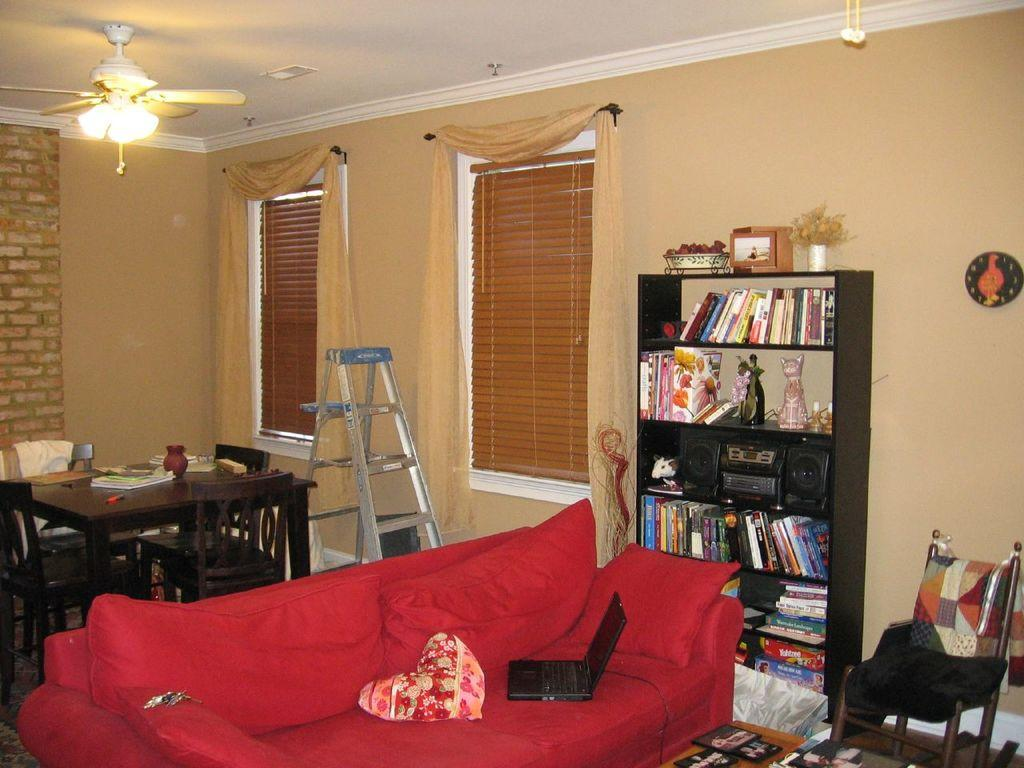Chair: (828, 529, 1021, 767)
Laptop: (506, 590, 628, 701)
